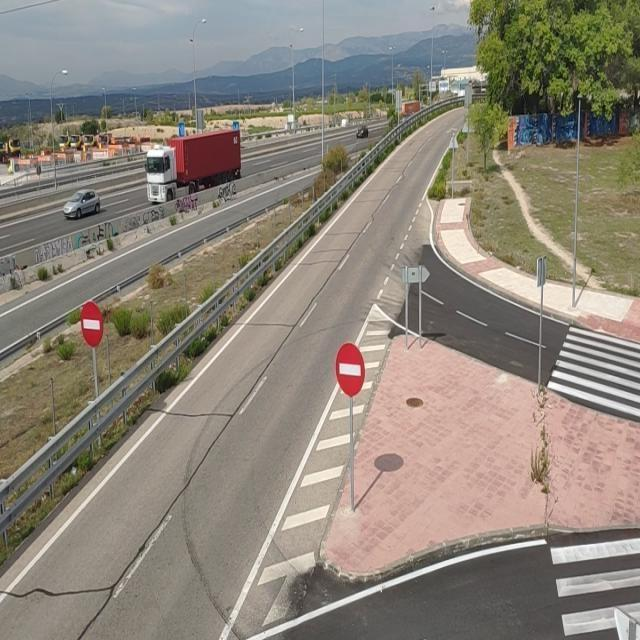Car: (62, 189, 100, 220), (356, 123, 368, 139)
Truck: (144, 128, 242, 204), (402, 100, 426, 114)
